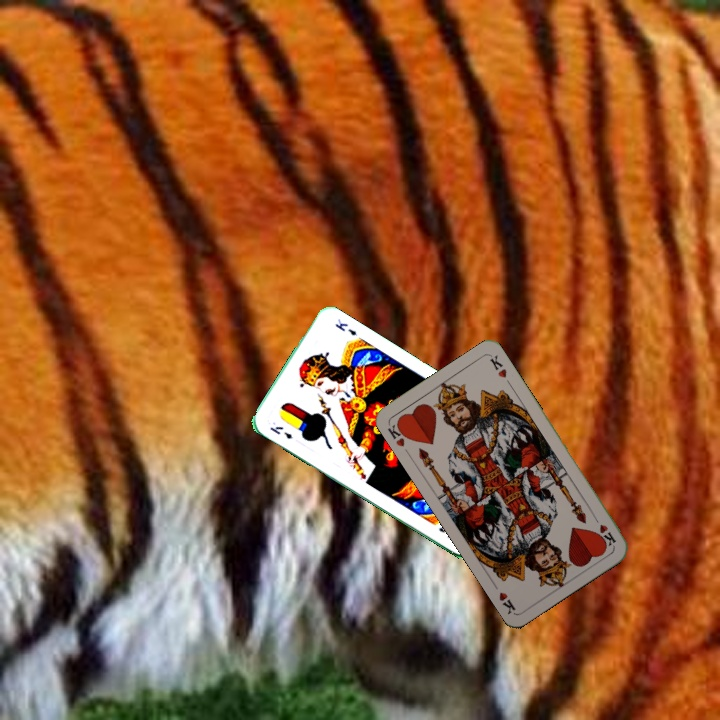EK: (266, 422, 295, 442)
HK: (589, 511, 618, 549), (384, 417, 412, 449)
